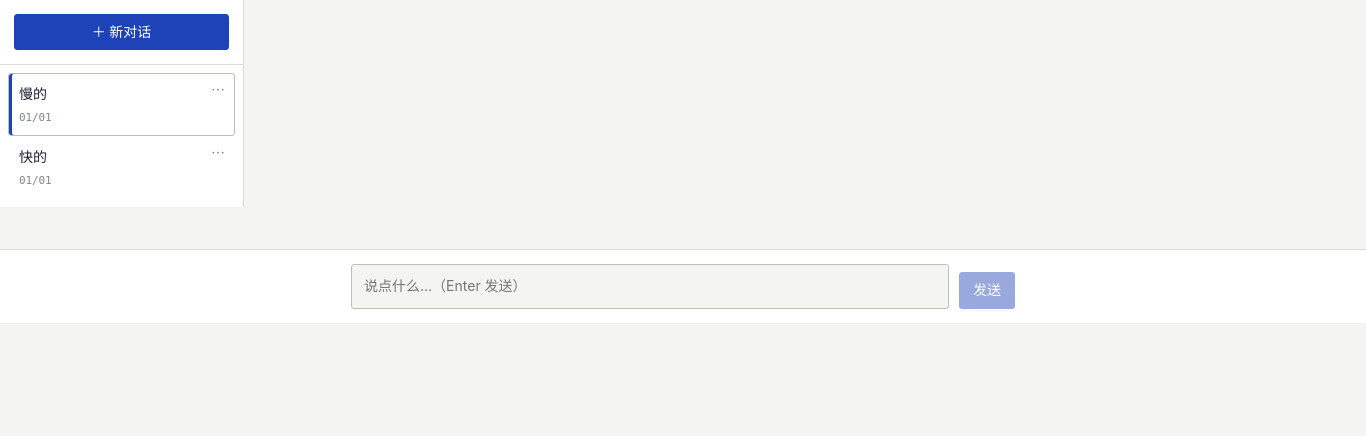
Test case: 快速操作的守卫 › 前一次打开还挂着时又点了另一段：迟到的历史不覆盖新会话
Click the button with class "entry" showing "快的 01/01": (122, 168) x1=8 y1=136 x2=235 y2=199
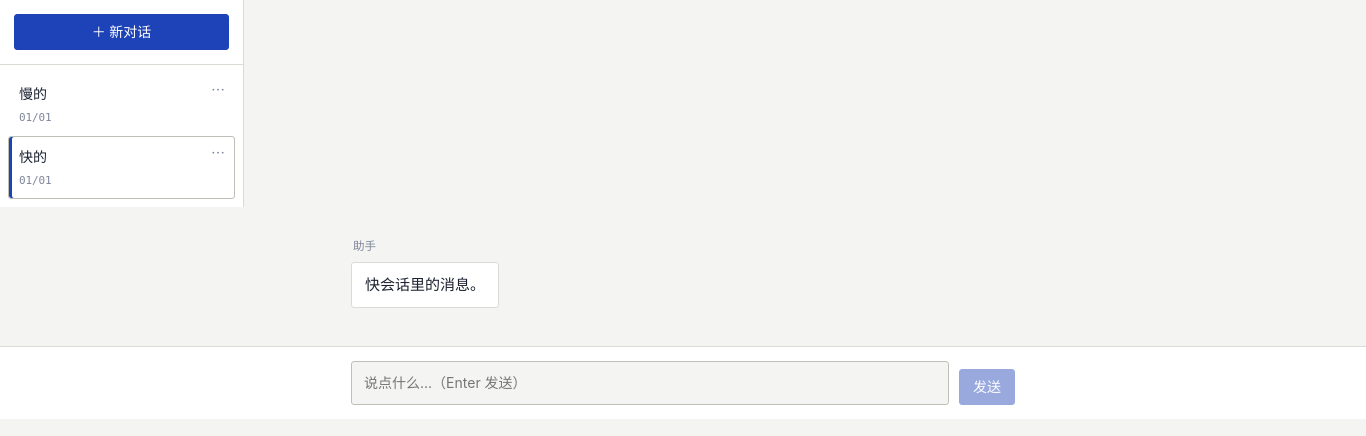
expect the text "快会话里的消息。" is shown: met, box x1=365 y1=272 x2=485 y2=298
